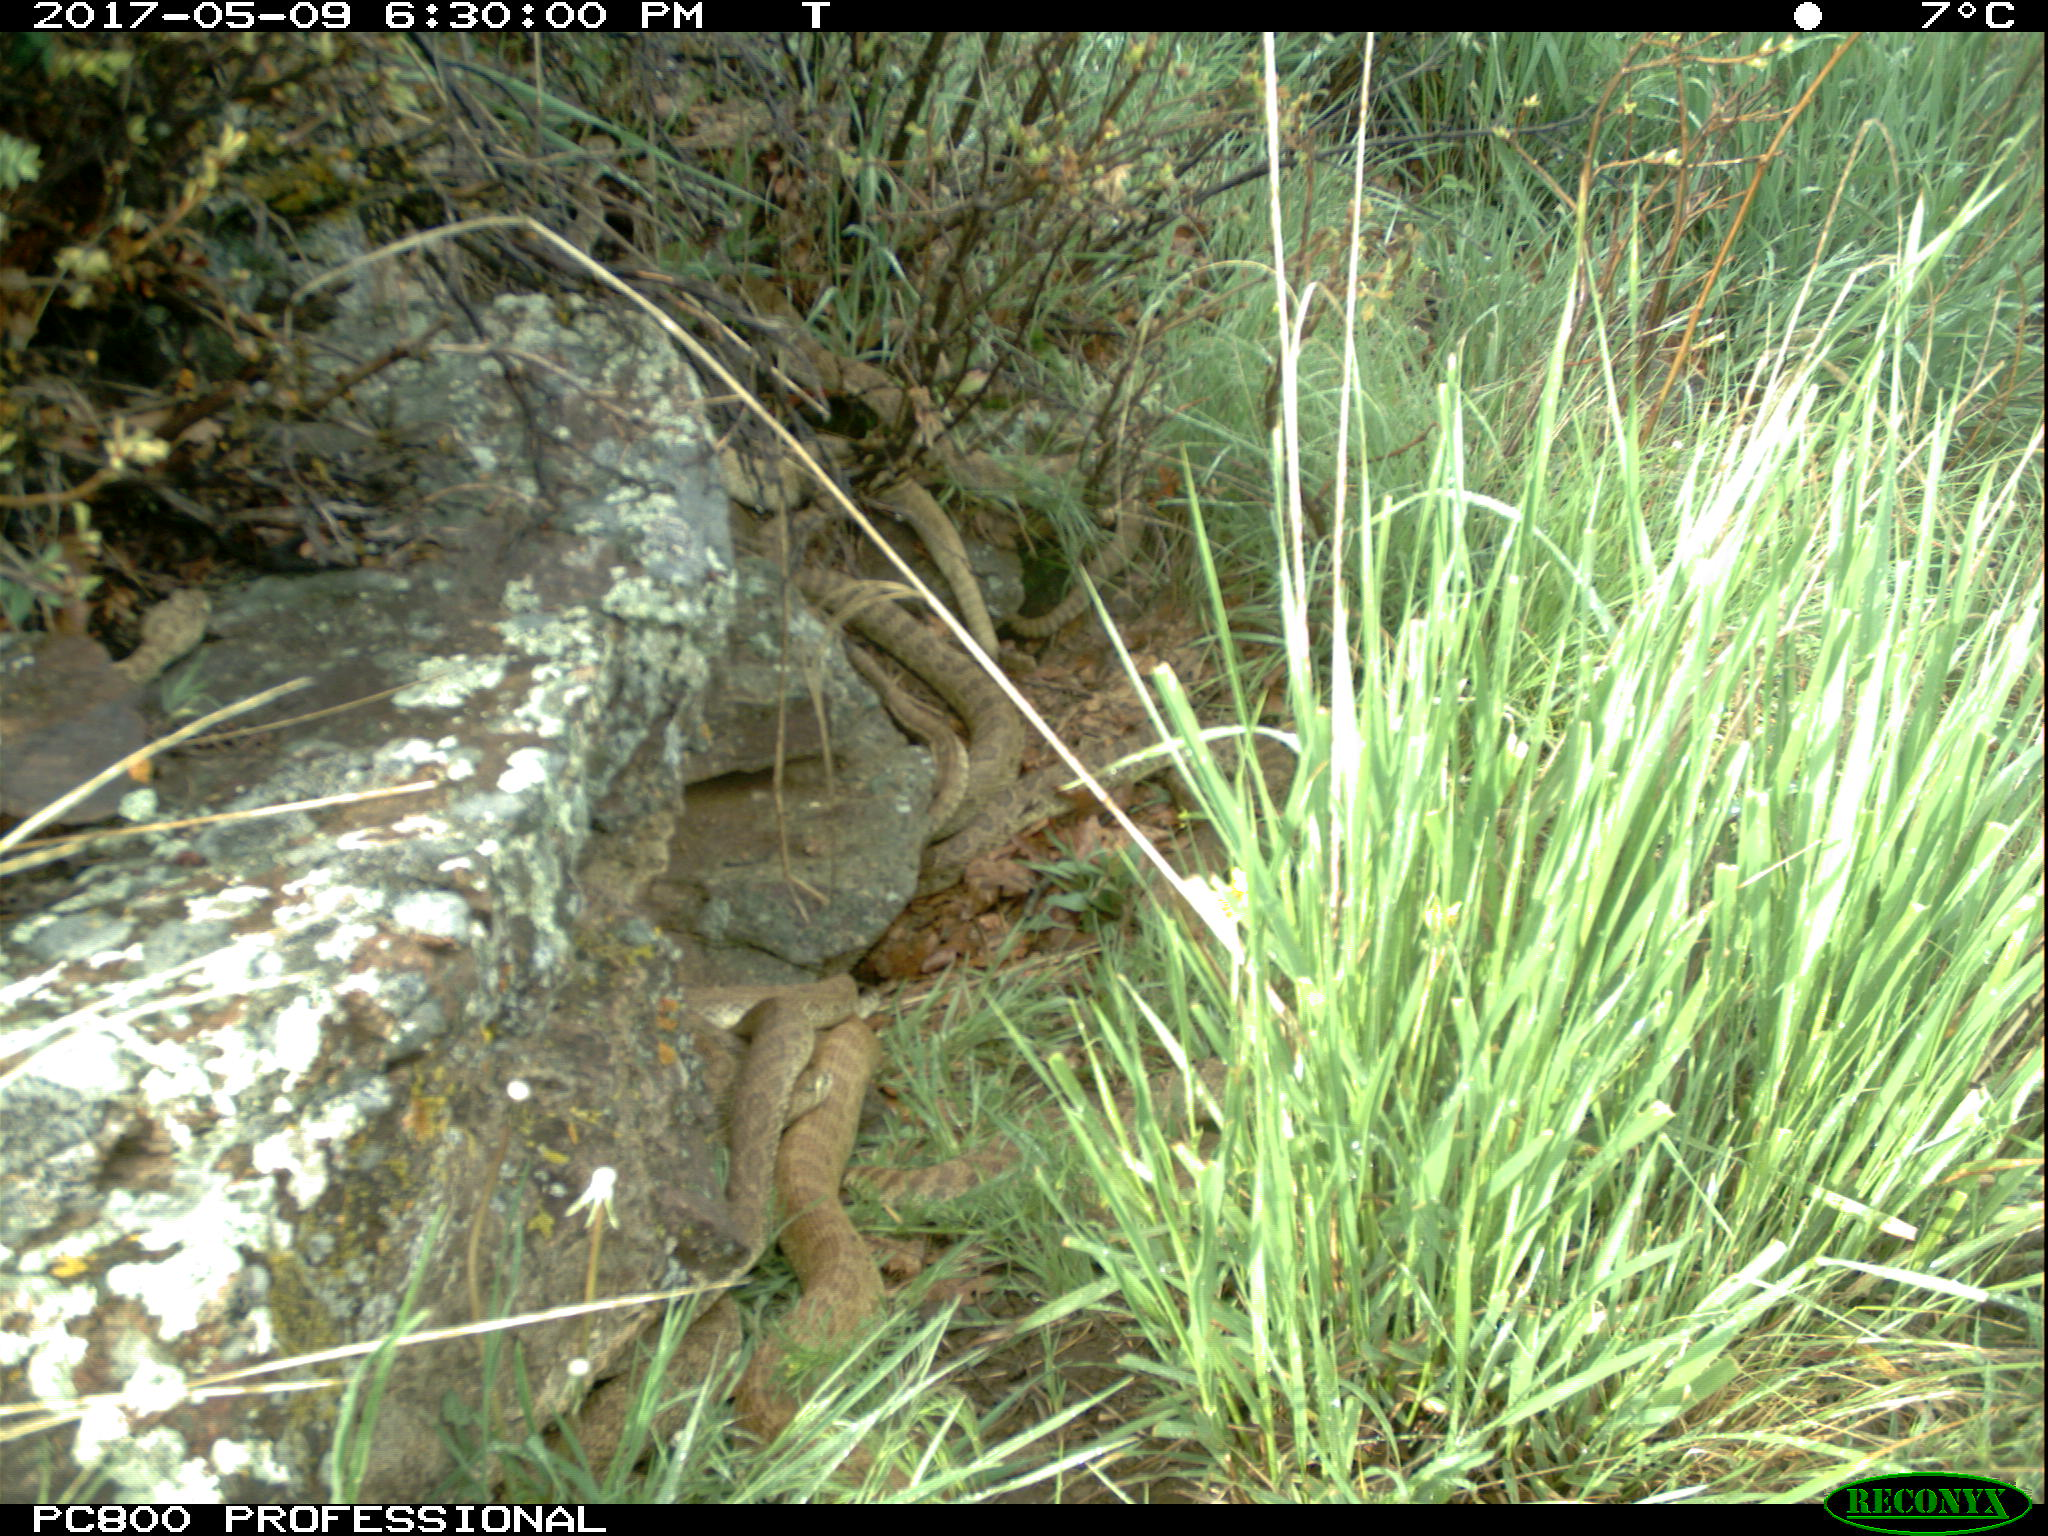snake: (692, 976, 898, 1471), (830, 581, 1026, 849), (760, 457, 993, 662), (556, 1297, 764, 1470), (1006, 712, 1321, 812), (1013, 492, 1184, 653), (103, 586, 232, 678)
